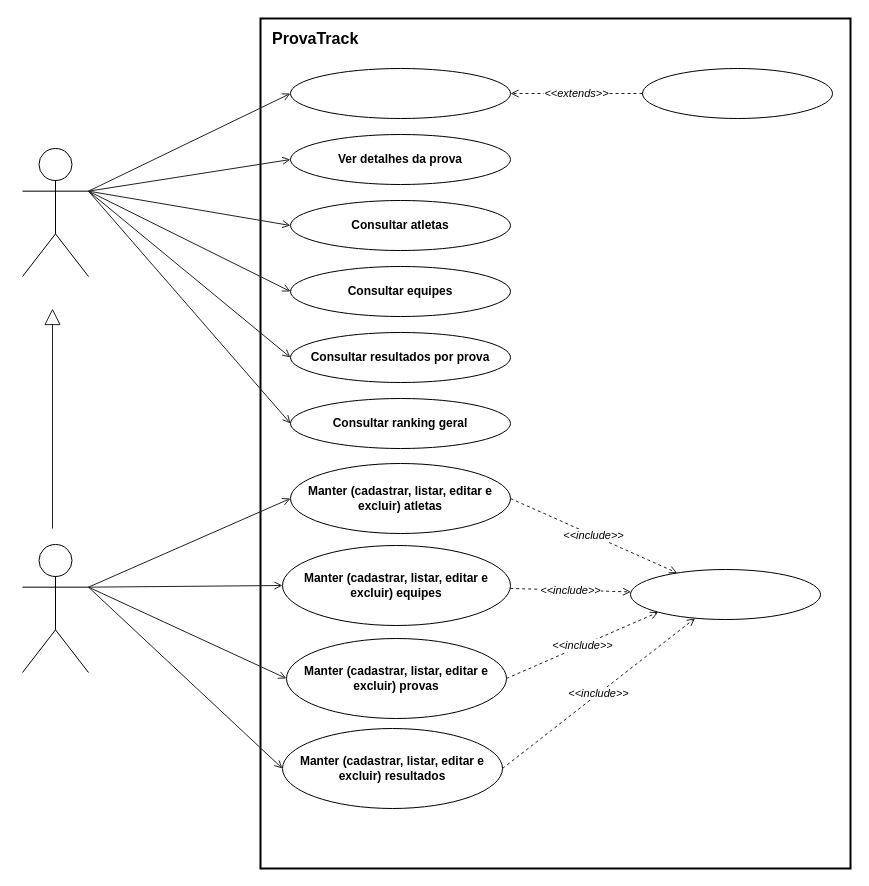
This 869x886 diagram has some shape labels left out. Here are the shapes that lost their labels. From the top down, the box of each, then its label:
(290, 68, 510, 118): Consultar provas
(642, 68, 832, 118): Filtrar provas
(22, 148, 88, 276): Visitante
(22, 544, 88, 672): Organizador
(630, 568, 820, 620): Fazer login
